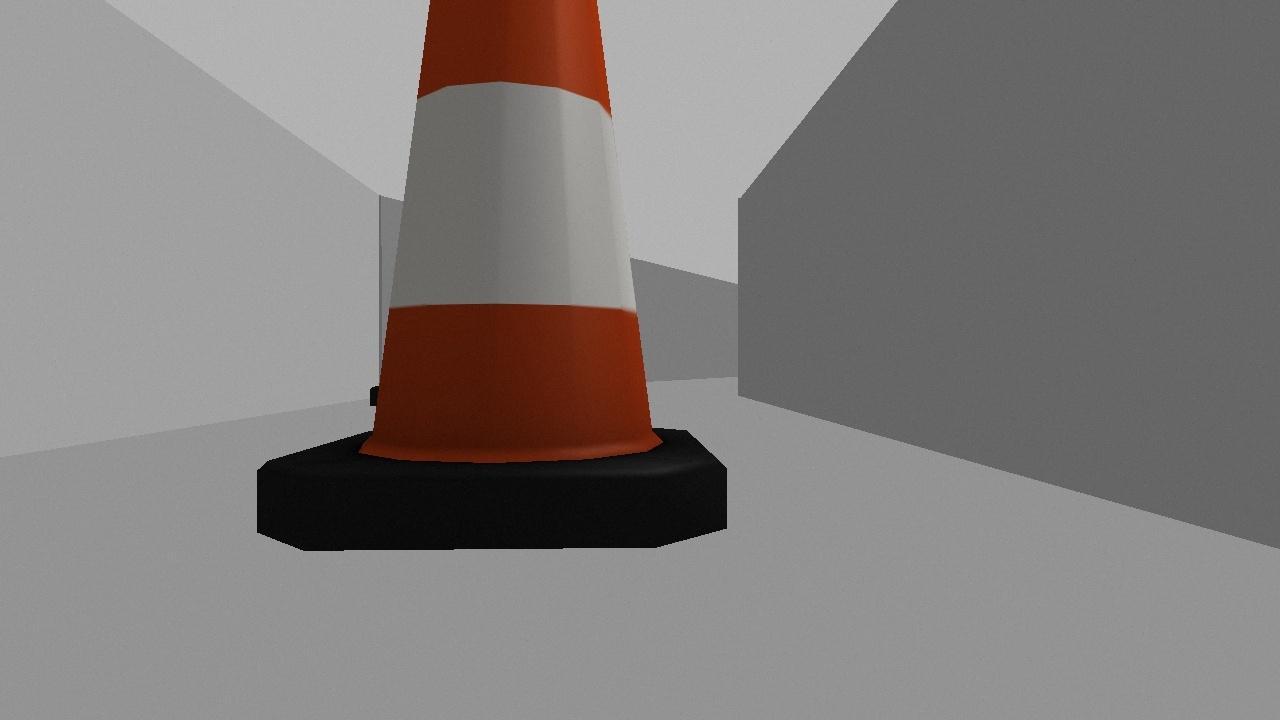cone_barrel: (233, 0, 747, 576)
